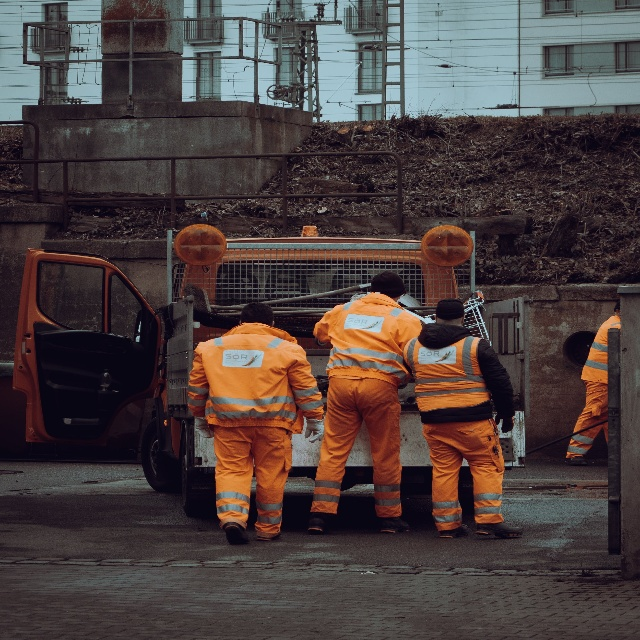Guantes: (305, 415, 325, 443), (193, 414, 212, 437), (495, 413, 514, 432)
